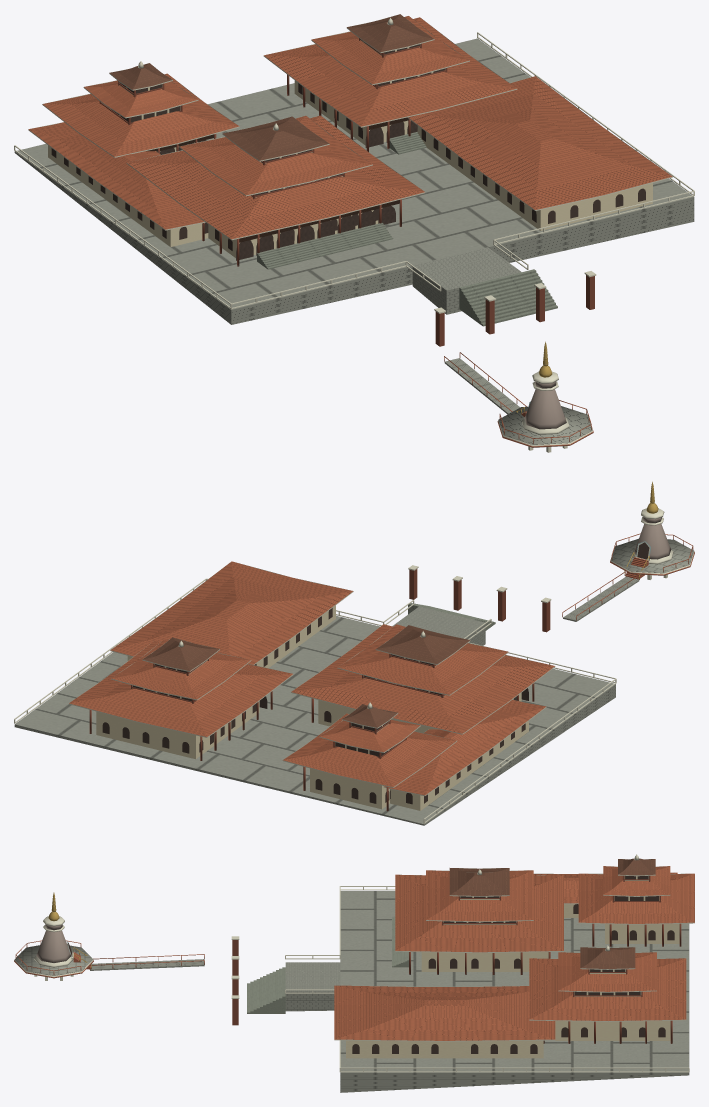
File: phat-lon-mid.glb
The picture shows the model from 3 angles, top to bottom: view 1: azimuth 30°, elevation 25°; view 2: azimuth 150°, elevation 25°; view 3: azimuth 270°, elevation 25°; orthographic projection. The views are drawn at different scales.
Visible parts, largest first — view 1: phat-lon-mid; view 2: phat-lon-mid; view 3: phat-lon-mid.
Boxes of the visible parts, x1,y1,x2,y2 form: phat-lon-mid: [14, 14, 694, 452]; phat-lon-mid: [14, 481, 694, 825]; phat-lon-mid: [14, 854, 694, 1092].
Size of the model in its own units: 74.15 by 19.32 by 117.
1 material, 1 textured.
